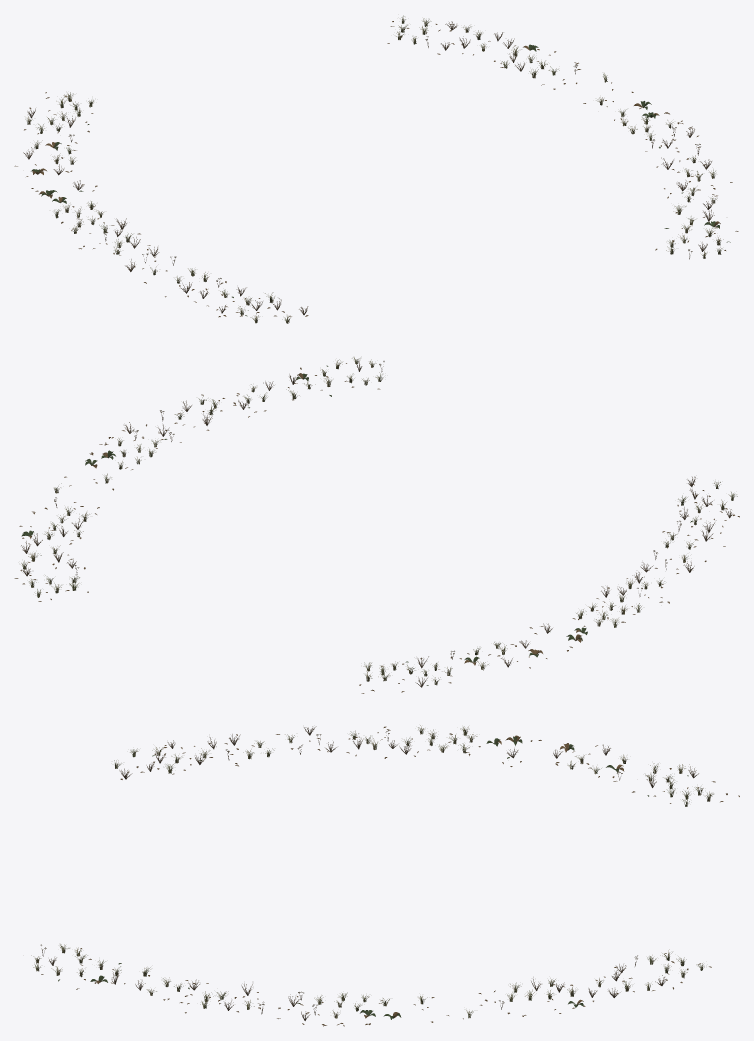
File: border-planting.glb
3 renders of one model, top to bottom at view 1: azimuth 30°, elevation 25°; view 2: azimuth 150°, elevation 25°; view 3: azimuth 270°, elevation 25°, orthographic. The views are drawn at different scales.
Parts seen in each view (by area): view 1: Border dry umber grass, Border bare wet twigs, Border deep olive grass, Border tobacco dry leaf; view 2: Border dry umber grass, Border bare wet twigs, Border deep olive grass, Border tobacco dry leaf; view 3: Border dry umber grass, Border deep olive grass, Border bare wet twigs, Border tobacco dry leaf.
Boxes of the visible parts, x1,y1,x2,y2 form: Border dry umber grass: [27, 16, 723, 323]; Border bare wet twigs: [23, 21, 719, 314]; Border deep olive grass: [25, 15, 722, 323]; Border tobacco dry leaf: [14, 21, 738, 317]; Border dry umber grass: [21, 357, 734, 685]; Border bare wet twigs: [22, 360, 732, 687]; Border deep olive grass: [22, 357, 737, 684]; Border tobacco dry leaf: [14, 363, 739, 693]; Border dry umber grass: [31, 725, 713, 1018]; Border deep olive grass: [34, 727, 713, 1018]; Border bare wet twigs: [41, 726, 698, 1020]; Border tobacco dry leaf: [41, 726, 739, 1026].
Bounding box in the file's own units: 21.18 × 0.4327 × 21.65.
